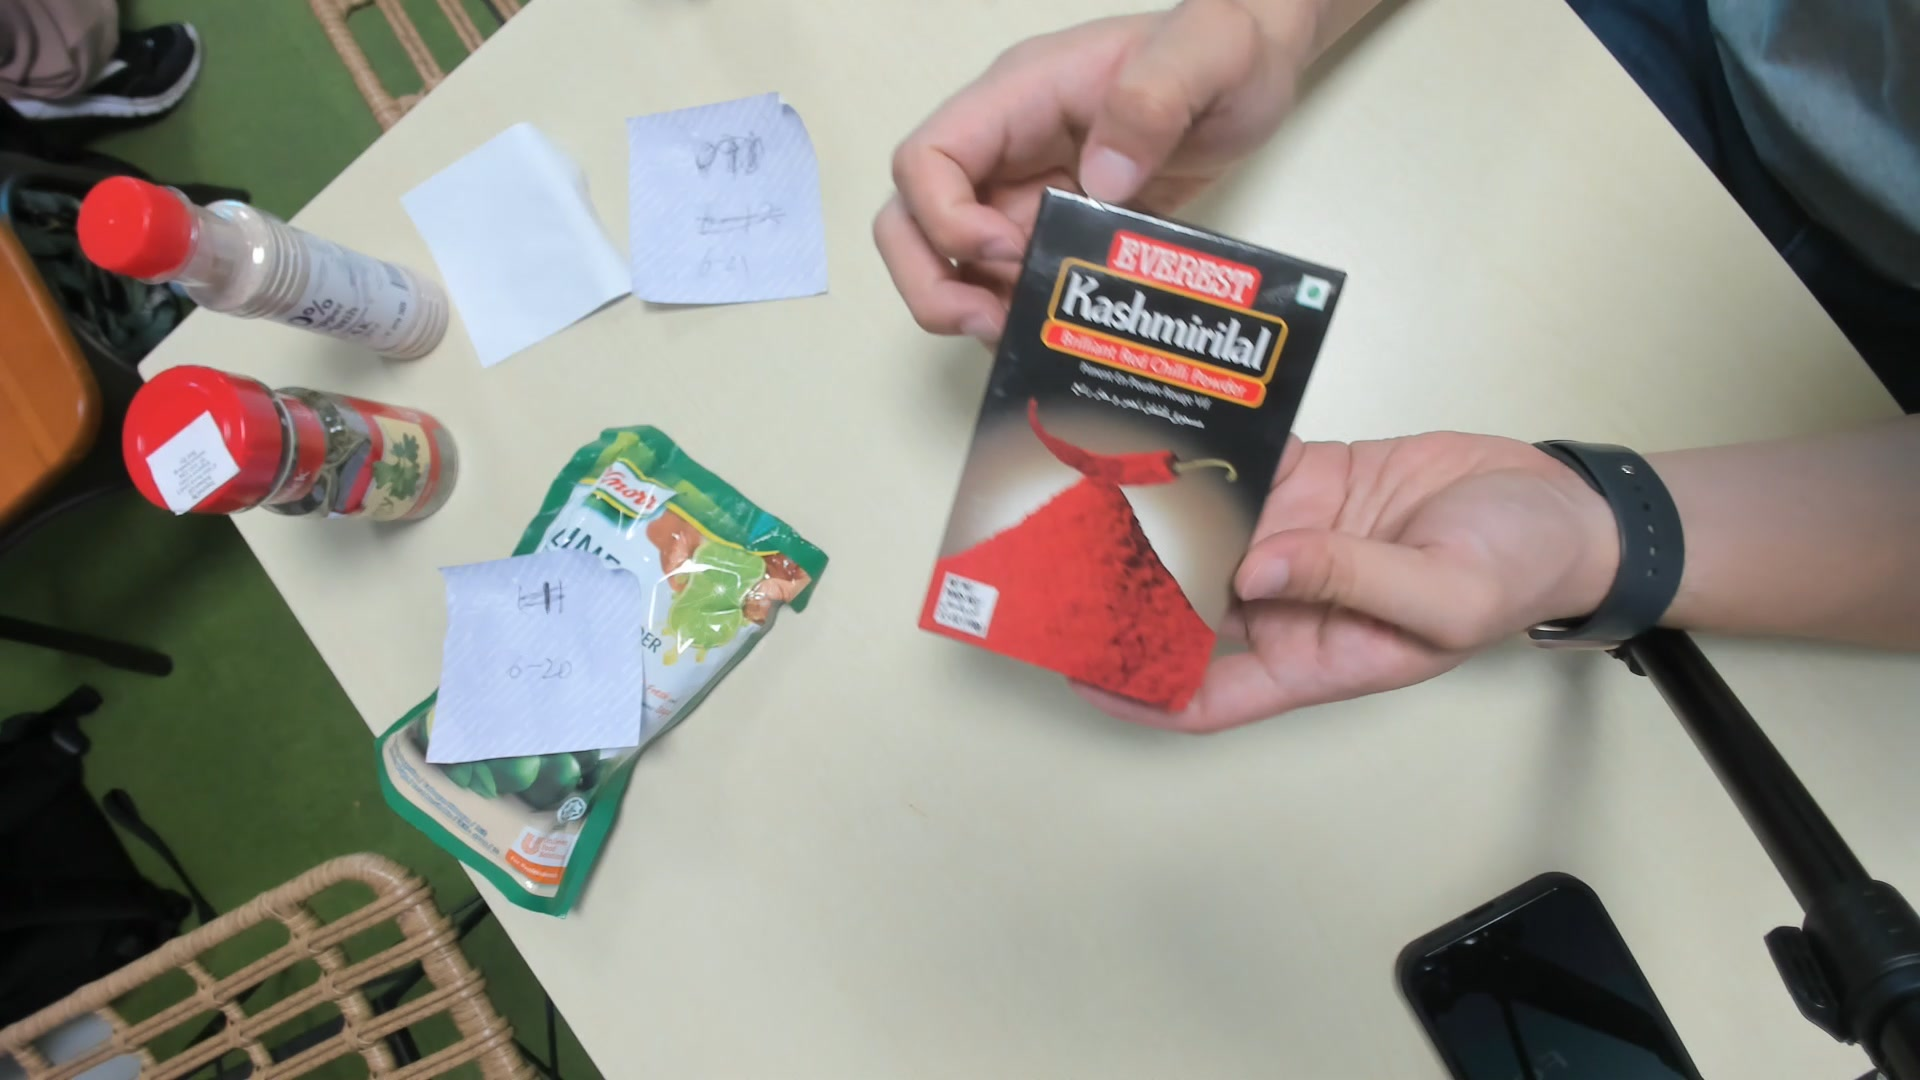HerbsSpicesPepper_100-199g_NonHalal_NonHealthy: (934, 187, 1346, 702)
